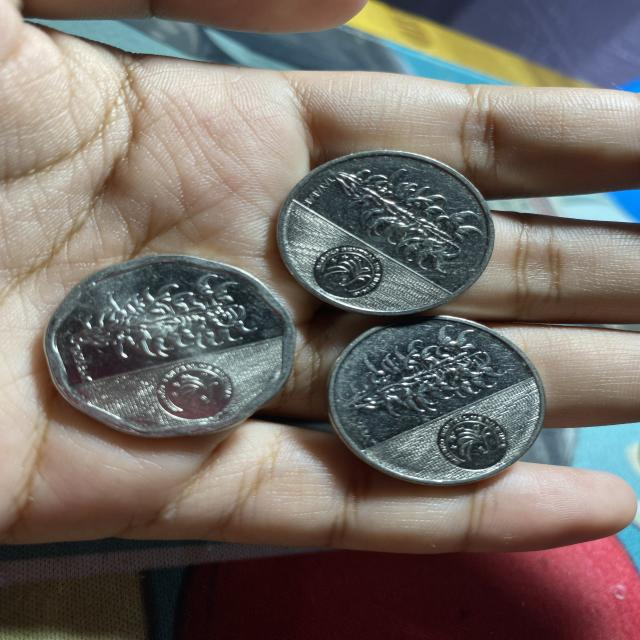5_New_Back: (67, 274, 268, 364), (352, 334, 505, 424), (336, 173, 481, 265)
